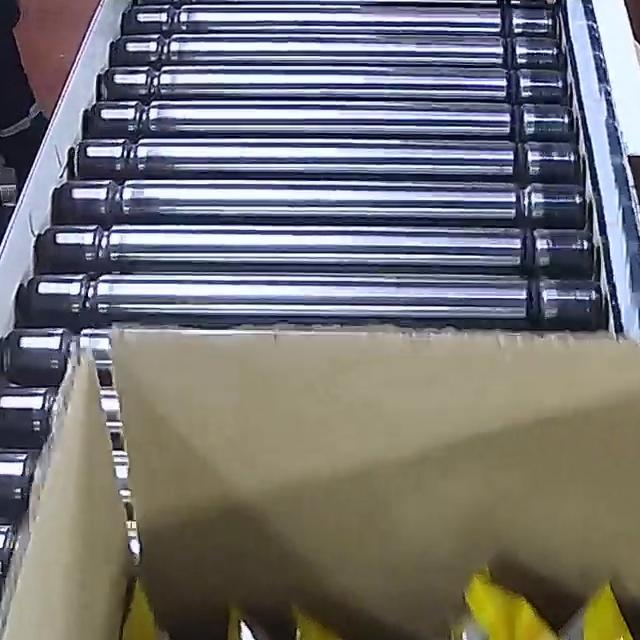salted: (90, 530, 640, 640)
